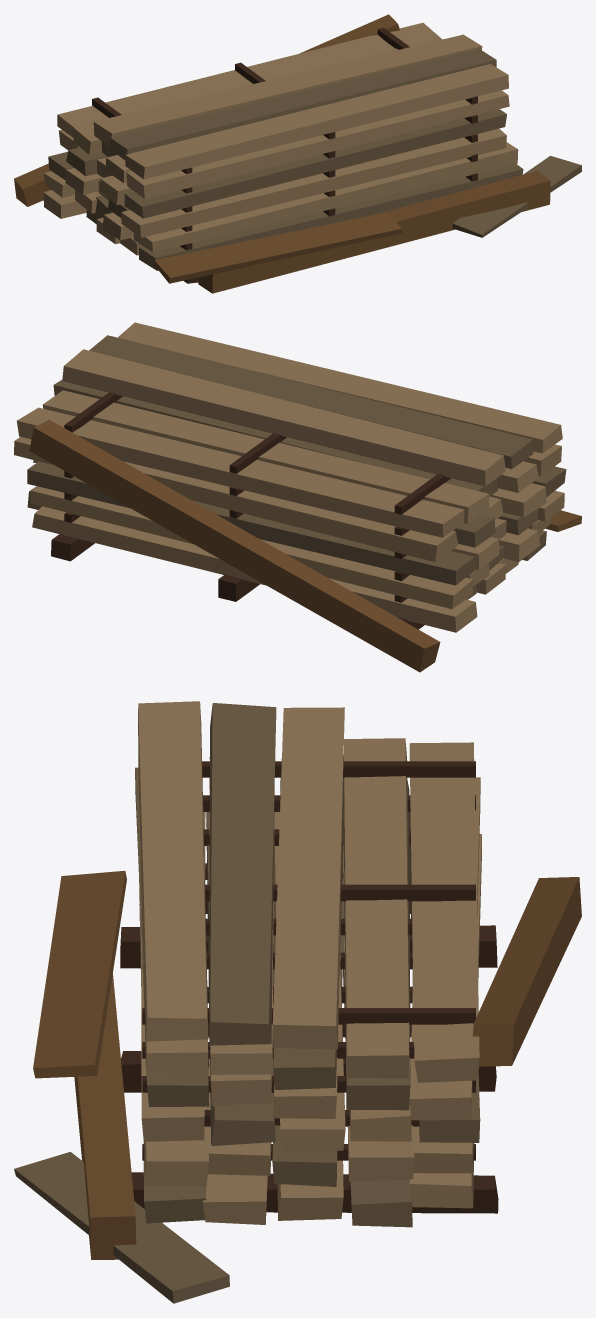
Rendered from woodpile.glb.
The picture shows the model from 3 angles, top to bottom: view 1: azimuth 30°, elevation 25°; view 2: azimuth 150°, elevation 25°; view 3: azimuth 270°, elevation 25°; orthographic projection. The views are drawn at different scales.
Parts seen in each view (by area): view 1: woodpile; view 2: woodpile; view 3: woodpile.
Boxes of the visible parts, <box> form: woodpile: <box>14,14,581,293</box>; woodpile: <box>14,322,581,672</box>; woodpile: <box>14,701,581,1303</box>.
Size of the model in its own units: 4.47 by 1.18 by 2.72.
